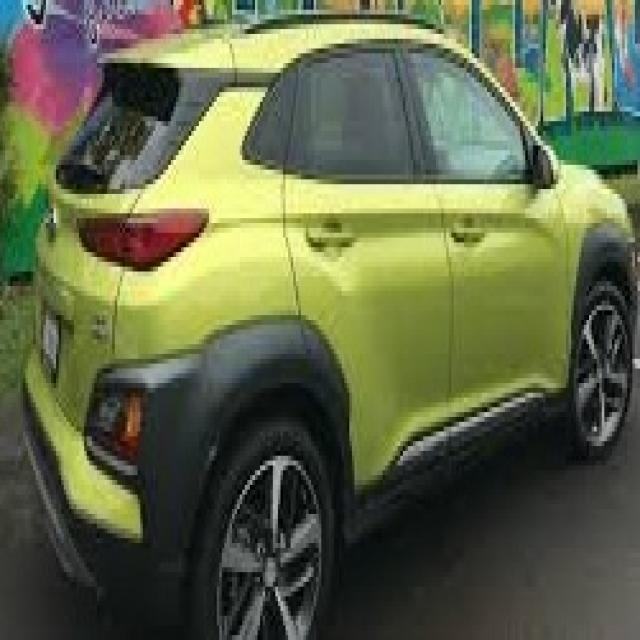green: (24, 19, 640, 623)
